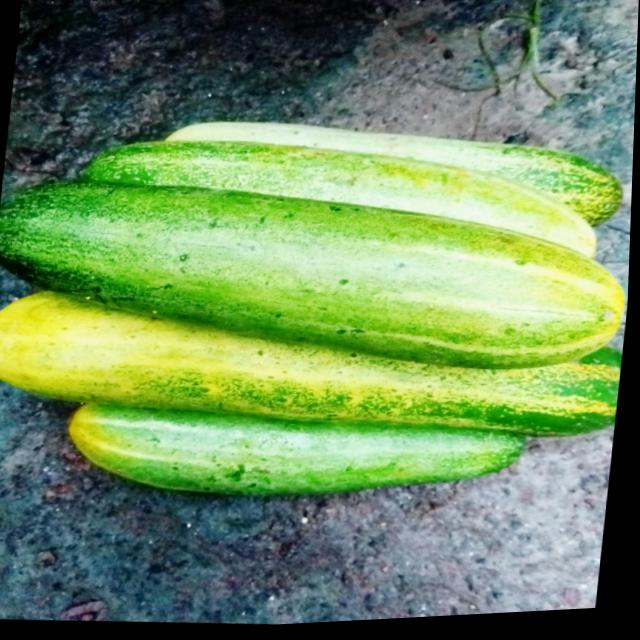Fresh-Cucumber: (0, 89, 637, 531)
